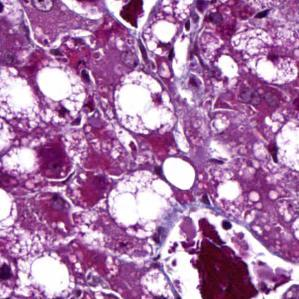ballooning: (104, 166, 180, 241), (113, 70, 179, 139)
